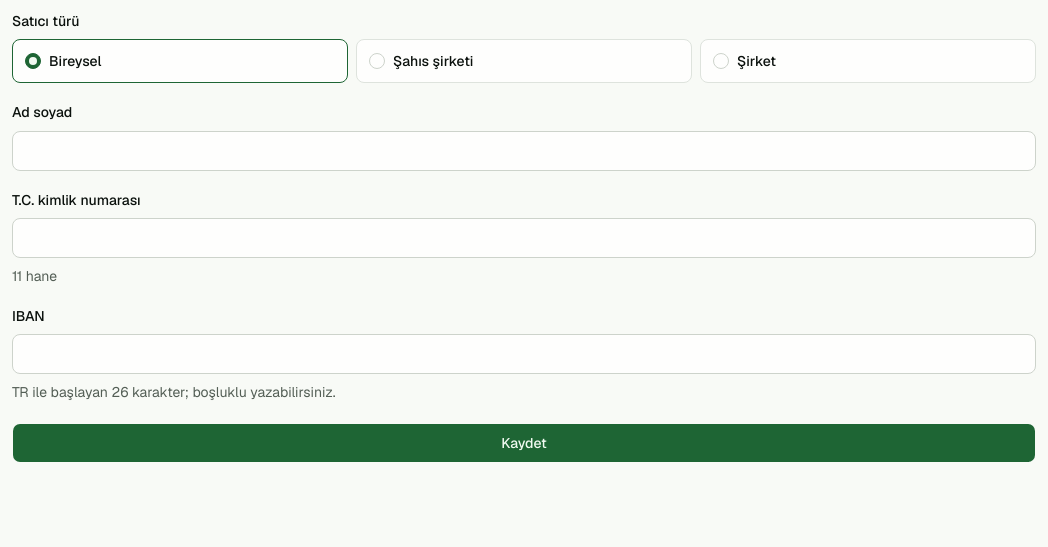
Test case: PayoutForm › bilgileri PUT ile gönderir, başarıyı bildirir ve numara alanlarını boşaltır
This screenshot has width=1048, height=547.
Type "Örnek Üretici" into the field labelled "Ad soyad" at (524, 150), box [12,130,1036,170]
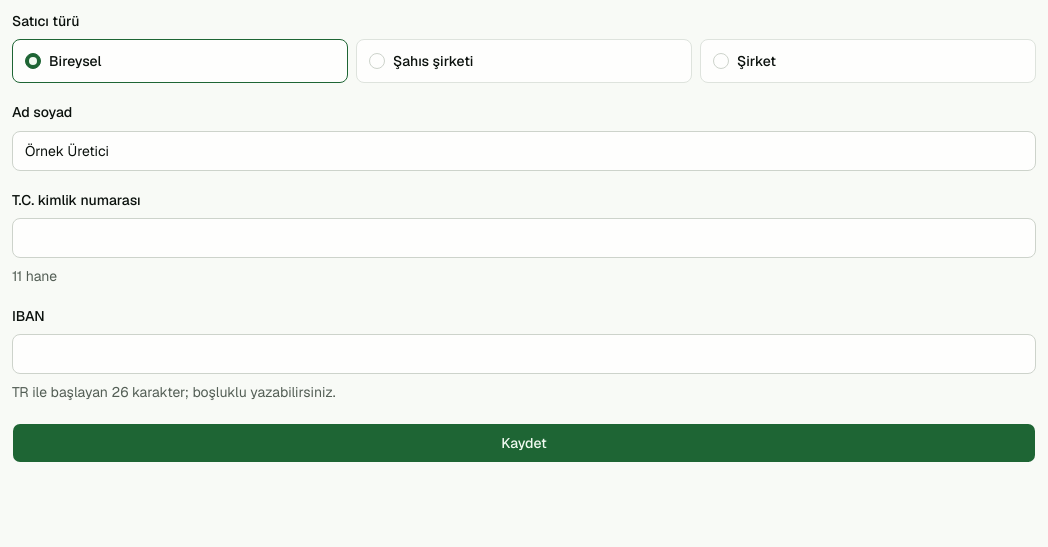
Type "10000000078" into the field labelled "T.C. kimlik numarası" at (524, 238), box [12,218,1036,258]
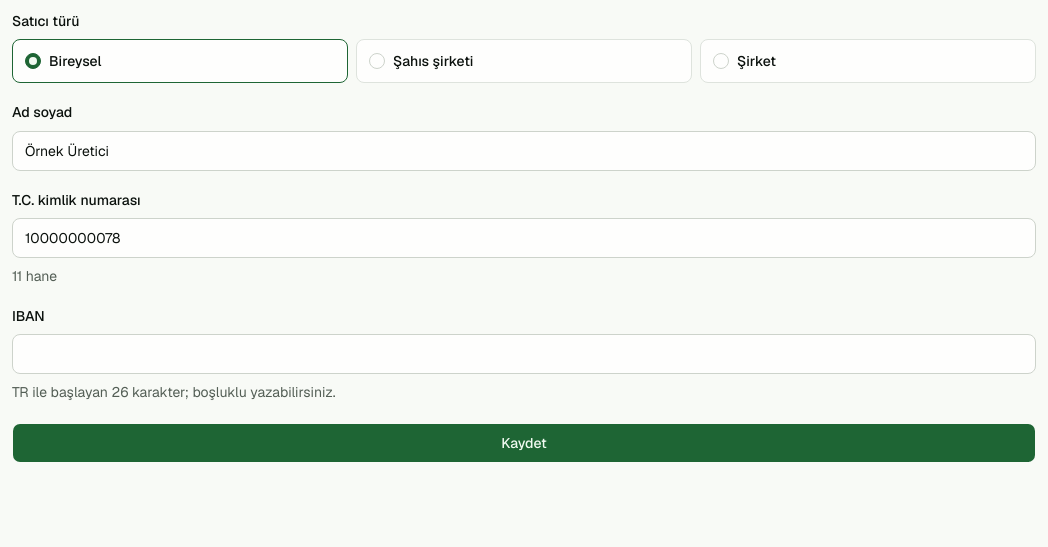
Type "TR33 0006 1005 1978 6457 8413 26" into the field labelled "IBAN" at (524, 354), box [12,334,1036,374]
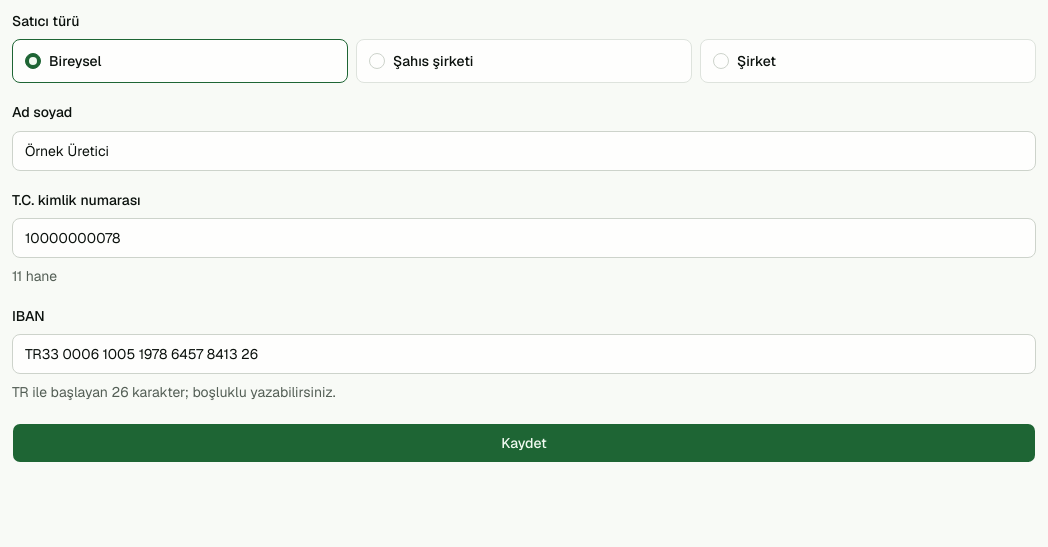
Click the button "Kaydet" at (524, 443), box [12,423,1036,463]
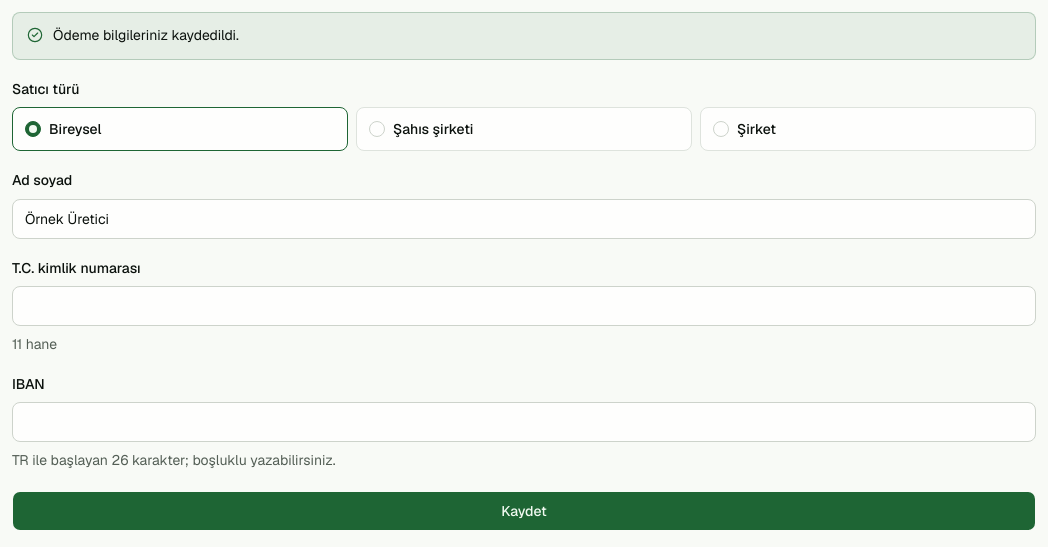
Now the text "Ödeme bilgileriniz kaydedildi." is shown, box [53,26,239,44]
Now the field labelled "IBAN" is empty, box [12,402,1036,442]
Now the field labelled "T.C. kimlik numarası" is empty, box [12,286,1036,326]
